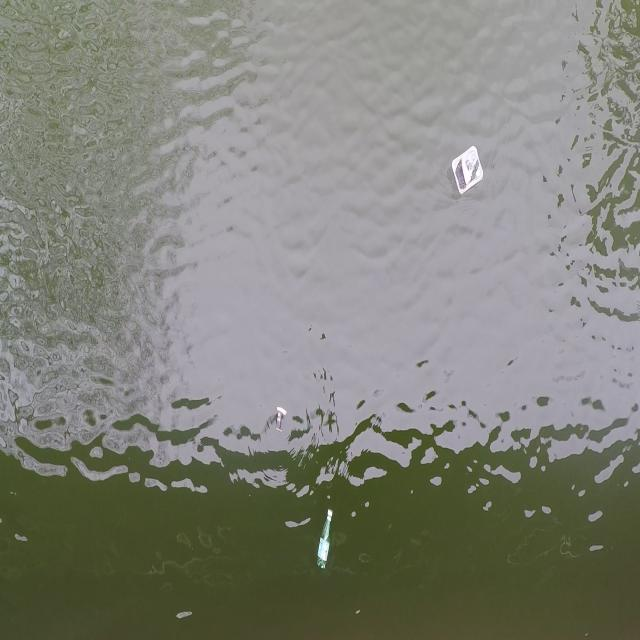Autre plastique: (451, 144, 488, 201)
Bouteille plastique: (316, 506, 335, 580)
Non plastique: (272, 400, 289, 439)
